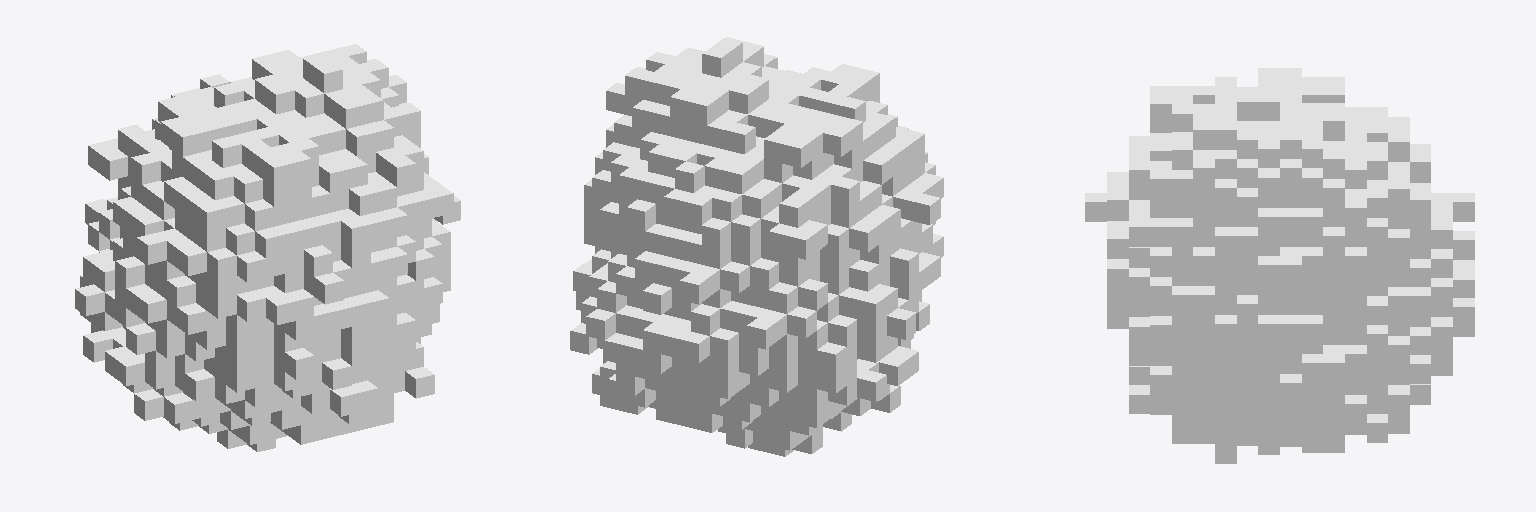
File: Title-2.obj
3 renders of one model, left to right at view 1: azimuth 30°, elevation 25°; view 2: azimuth 150°, elevation 25°; view 3: azimuth 270°, elevation 25°, orthographic.
Visible parts, largest first — view 1: object 1; view 2: object 1; view 3: object 1.
Boxes of the visible parts, box(x1,y1,x2,y2) form: object 1: box(75, 44, 460, 451); object 1: box(570, 37, 943, 456); object 1: box(1085, 68, 1474, 463).
Size of the model in its own units: 1.7 by 1.9 by 1.8.